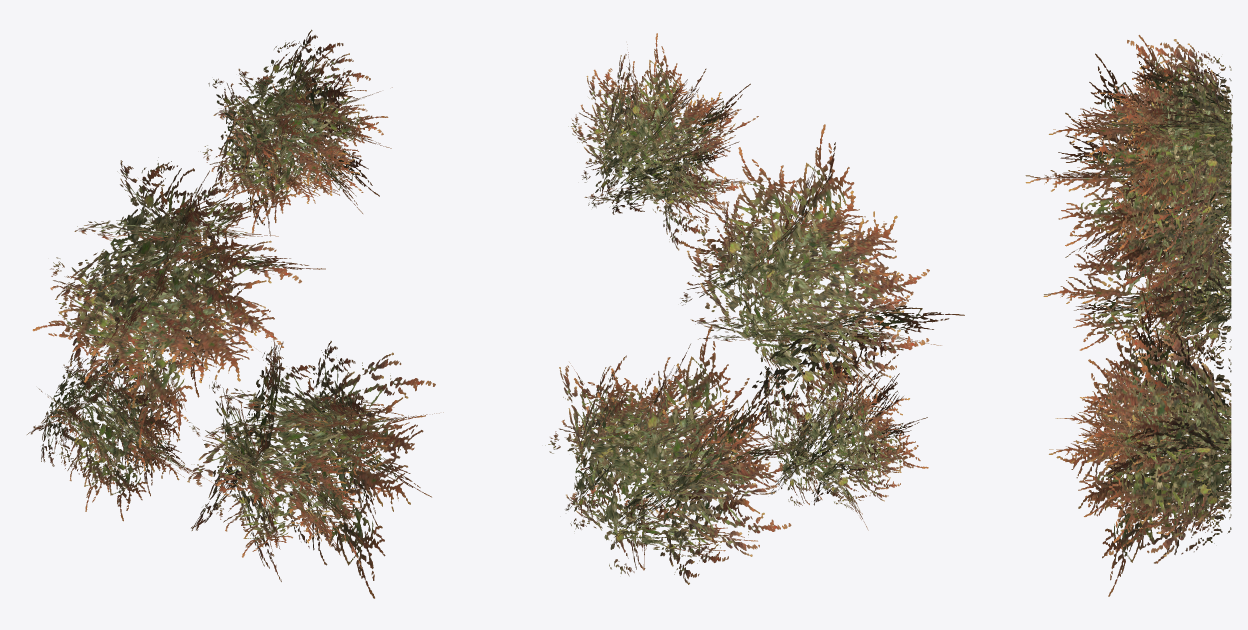
Rendered from tdr_v_redplant.obj.
3 renders of one model, left to right at view 1: azimuth 30°, elevation 25°; view 2: azimuth 150°, elevation 25°; view 3: azimuth 270°, elevation 25°, orthographic. The views are drawn at different scales.
Parts seen in each view (by area): view 1: tdr_v_redplant; view 2: tdr_v_redplant; view 3: tdr_v_redplant.
Boxes of the visible parts, x1,y1,x2,y2 form: tdr_v_redplant: (27,29,443,598); tdr_v_redplant: (545,33,964,584); tdr_v_redplant: (1025,35,1232,596).
Bounding box in the file's own units: 1520 × 1840 × 640.
Materials: 1 (1 with a texture image).
